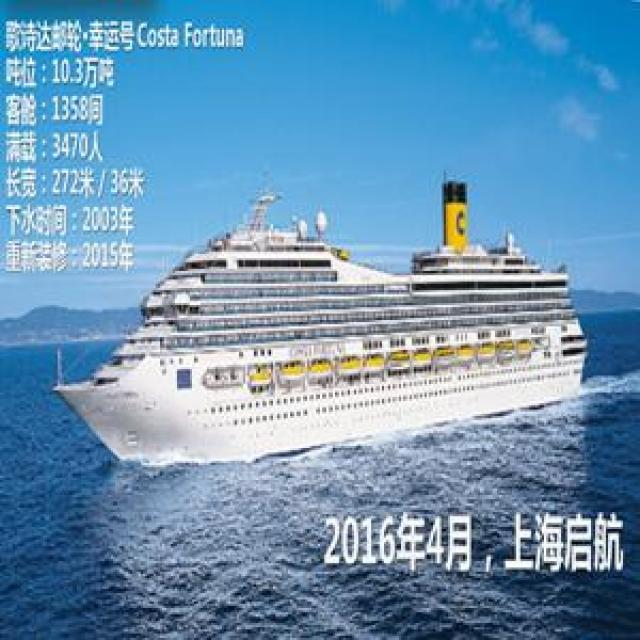passenger ship: (50, 199, 591, 462)
